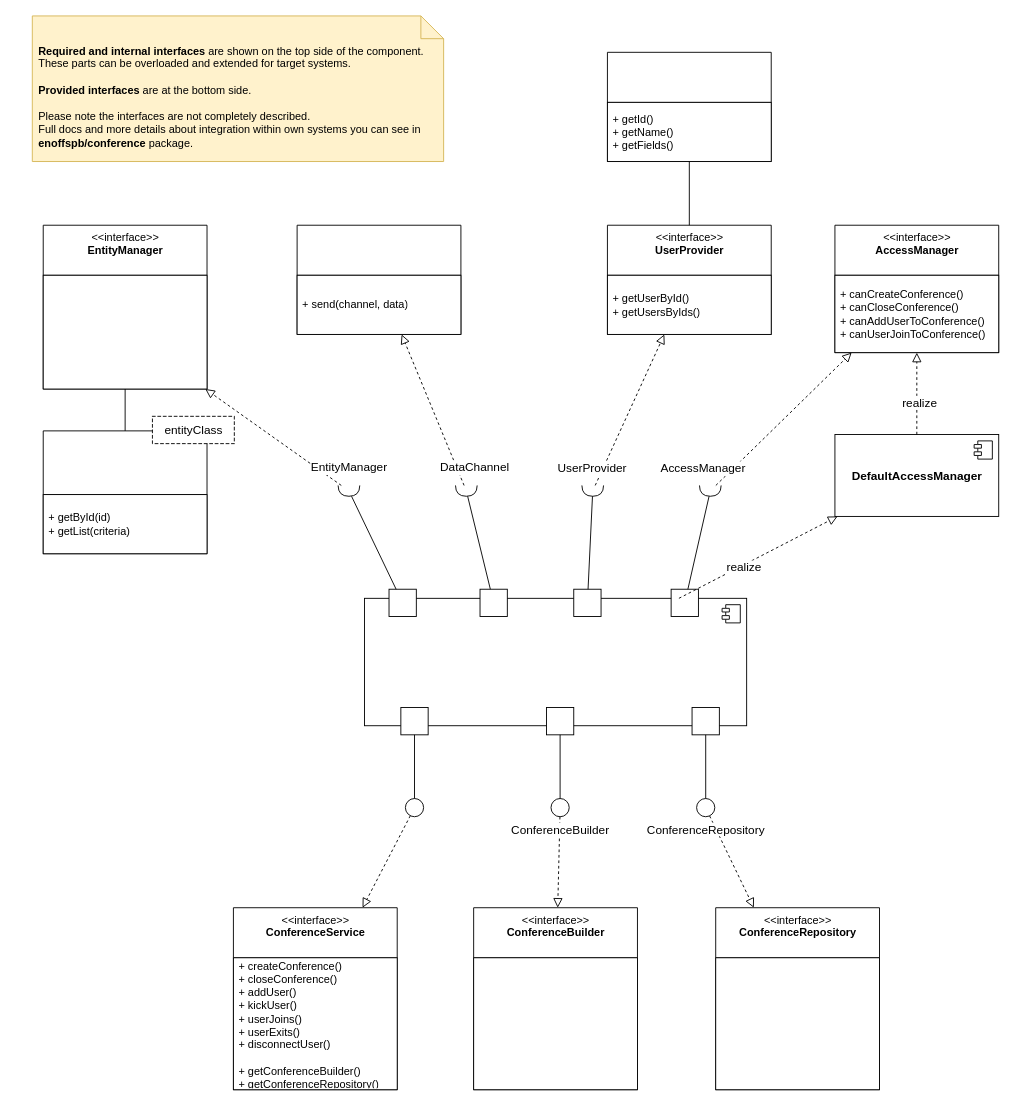
Some shapes in this 1015 by 1106 pixel diagram are drawn without their labels. Each missing label, with the box of its shape:
+ getById() + getByCode() + getList(): (715, 957, 880, 1090)
+ save(object) + update(object) + delete(object) + getRepository(class): (42, 274, 207, 389)
+ setName() + setCode() + addUser() + setExtraField(): (473, 957, 637, 1090)
<<interface>> DataChannel: (296, 224, 461, 334)
<<interface>> Repository: (42, 430, 207, 554)
<<interface>> UserInterface: (607, 51, 771, 162)
ConferenceService: (404, 798, 424, 817)
«component» ConferenceSystem: (364, 597, 747, 726)
